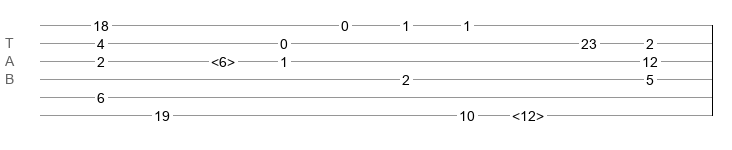0: (280, 36, 288, 46), (341, 18, 349, 28)
1: (280, 54, 288, 64), (402, 18, 410, 28), (463, 18, 471, 28)
10: (459, 108, 475, 118)
12: (642, 54, 658, 64)
18: (93, 18, 109, 28)
19: (154, 108, 170, 118)
2: (97, 54, 105, 64), (402, 72, 410, 82), (646, 36, 654, 46)
23: (581, 36, 597, 46)
4: (97, 36, 105, 46)
5: (646, 72, 654, 82)
6: (97, 90, 105, 100)
harmonic: (512, 108, 544, 118), (211, 54, 235, 64)
